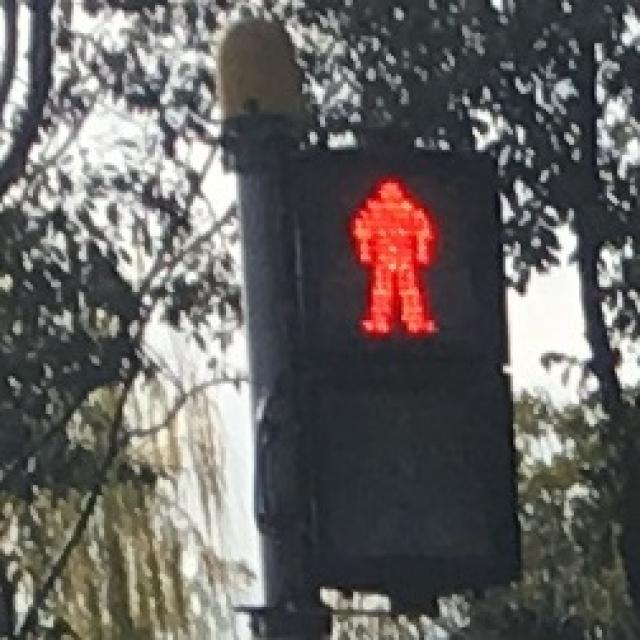red_light: (317, 155, 475, 353)
